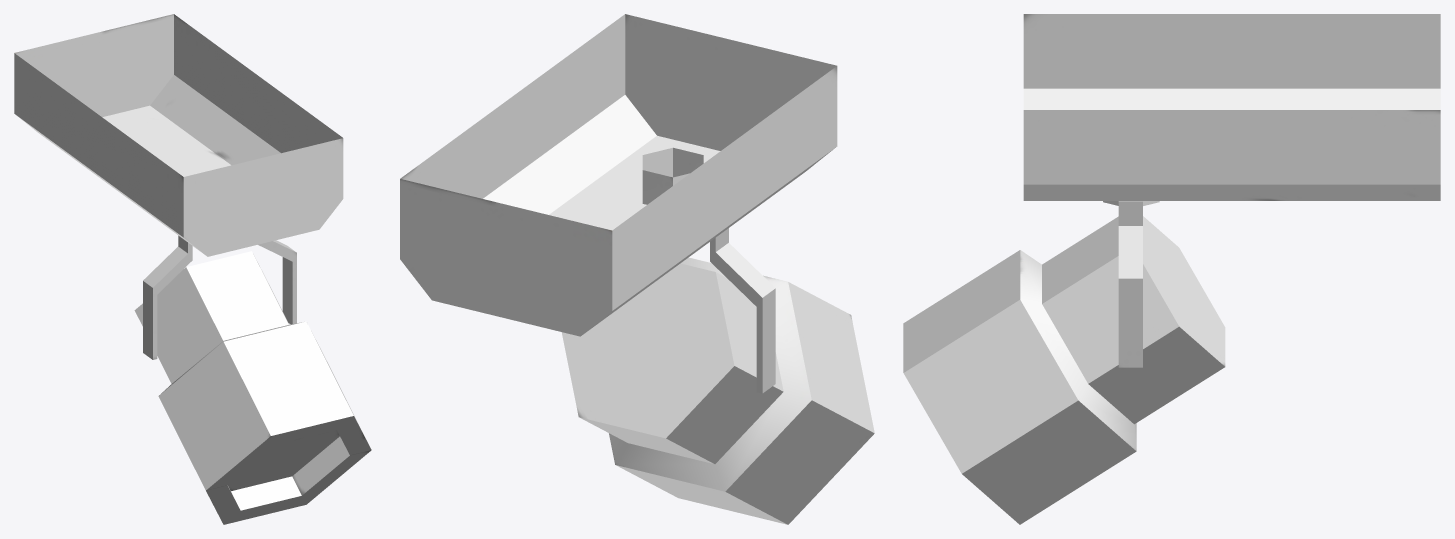
File: spotlight.fbx
The picture shows the model from 3 angles, left to right: view 1: azimuth 30°, elevation 25°; view 2: azimuth 150°, elevation 25°; view 3: azimuth 270°, elevation 25°; orthographic projection. The views are drawn at different scales.
Visible parts, largest first — view 1: spotlight; view 2: spotlight; view 3: spotlight.
Boxes of the visible parts, bbox=[...] form: spotlight: bbox=[14, 14, 371, 524]; spotlight: bbox=[400, 14, 874, 524]; spotlight: bbox=[903, 14, 1440, 524].
Bounding box in the file's own units: 0.609 × 1.25 × 1.39.
